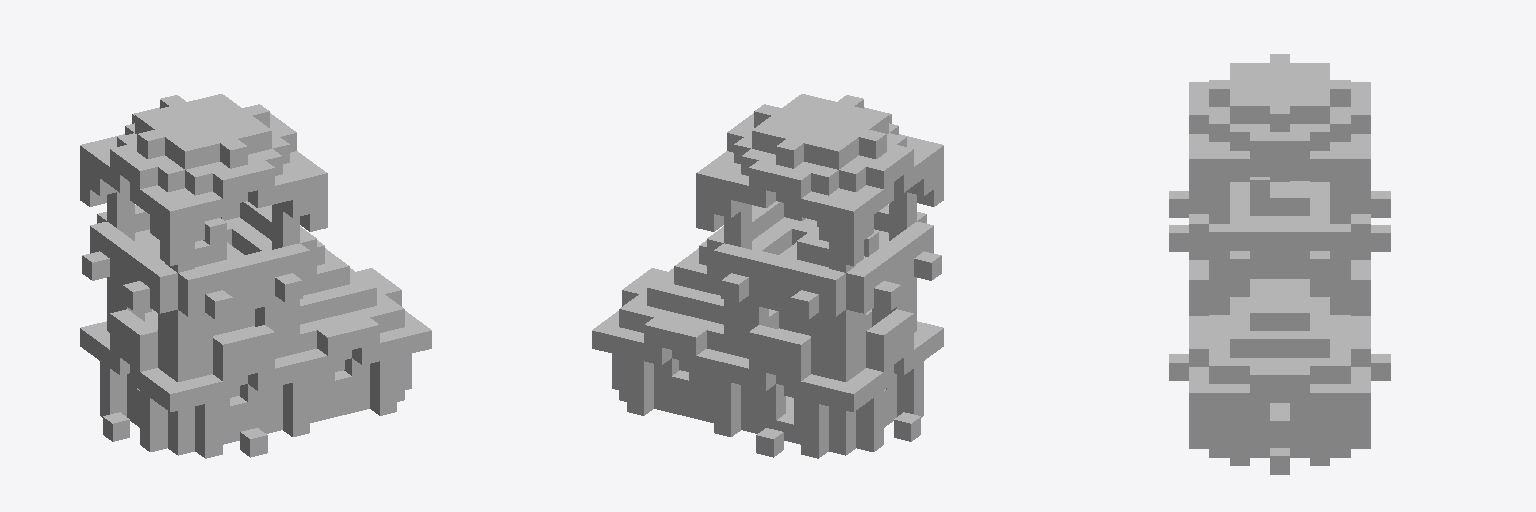
Rendered from base_plate2.obj.
The picture shows the model from 3 angles: view 1: azimuth 30°, elevation 25°; view 2: azimuth 150°, elevation 25°; view 3: azimuth 270°, elevation 25°; orthographic projection.
Parts seen in each view (by area): view 1: base_plate2; view 2: base_plate2; view 3: base_plate2.
Part boxes in pixels (x1,y1,x2,y2): base_plate2: (80, 94, 431, 458); base_plate2: (592, 94, 943, 458); base_plate2: (1169, 54, 1390, 474).
Bounding box in the file's own units: 17 × 16 × 11.